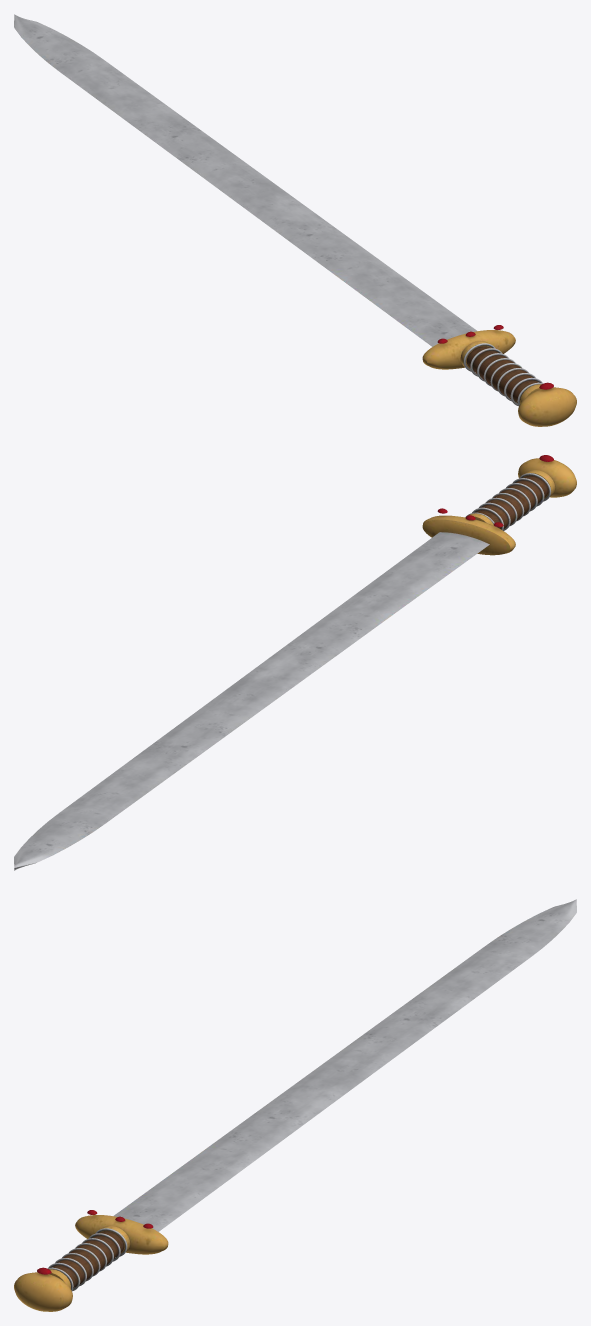
File: cavalry_spatha.glb
3 renders of one model, top to bottom at view 1: azimuth 30°, elevation 25°; view 2: azimuth 150°, elevation 25°; view 3: azimuth 330°, elevation 25°, orthographic.
Visible parts, largest first — view 1: cavalry_spatha; view 2: cavalry_spatha; view 3: cavalry_spatha.
Boxes of the visible parts, box(x1,y1,x2,y2) form: cavalry_spatha: box(14, 14, 576, 426); cavalry_spatha: box(14, 455, 576, 870); cavalry_spatha: box(14, 899, 576, 1311).
Bounding box in the file's own units: 0.0975 × 0.0411 × 1.
Materials: 1 (1 with a texture image).
